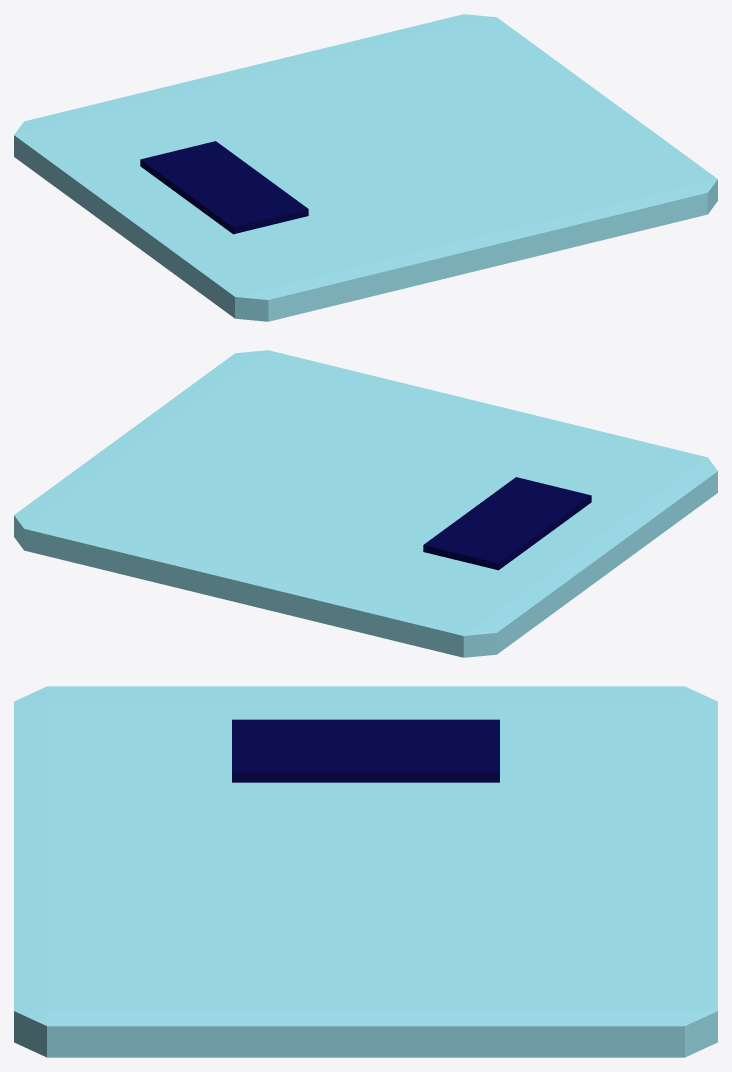
The model's file is WeightScale.fbx.
3 views of the same model, one above another, from view 1: azimuth 30°, elevation 25°; view 2: azimuth 150°, elevation 25°; view 3: azimuth 270°, elevation 25° (orthographic). The views are drawn at different scales.
Parts seen in each view (by area): view 1: WeightScale; view 2: WeightScale; view 3: WeightScale.
Part boxes in pixels (x1,y1,x2,y2): WeightScale: (14,14,717,321); WeightScale: (14,350,717,657); WeightScale: (14,686,717,1057).
Bounding box in the file's own units: 38.4 × 2.25 × 33.62.
